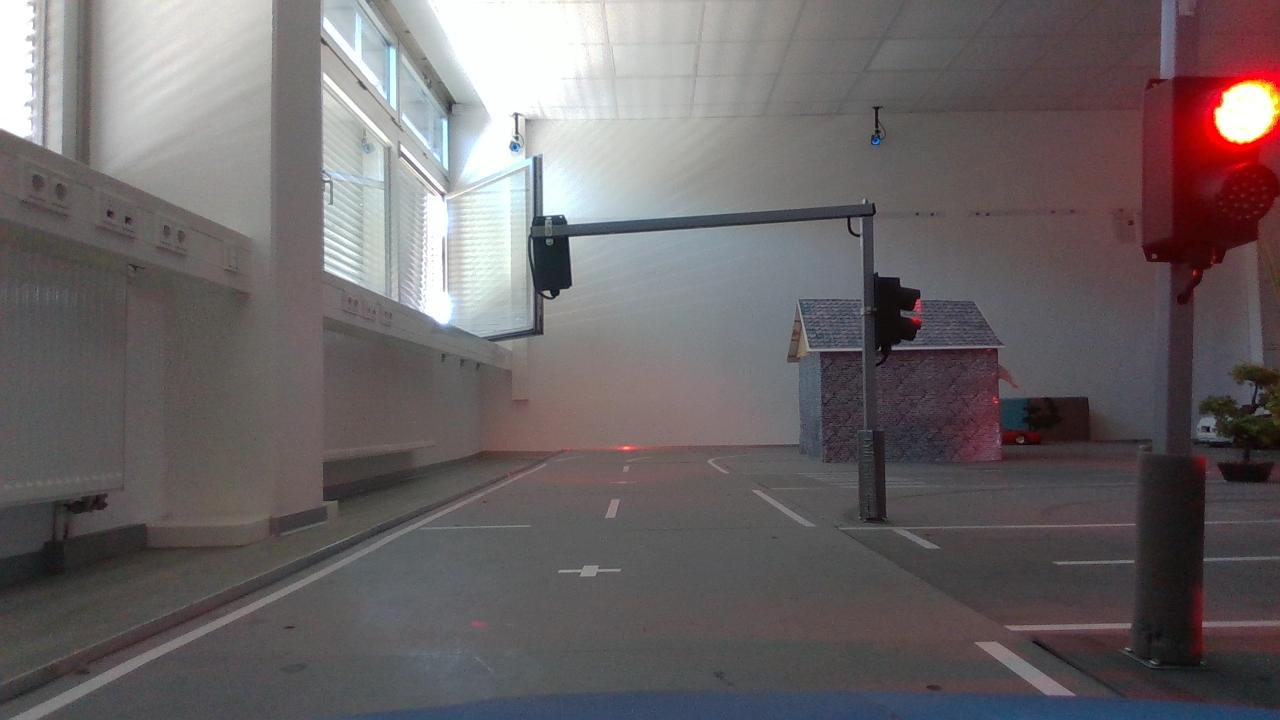traffic_light_red: (1111, 54, 1280, 286)
